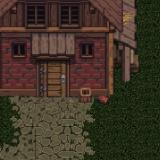Obstacle: (0, 0, 160, 130)
